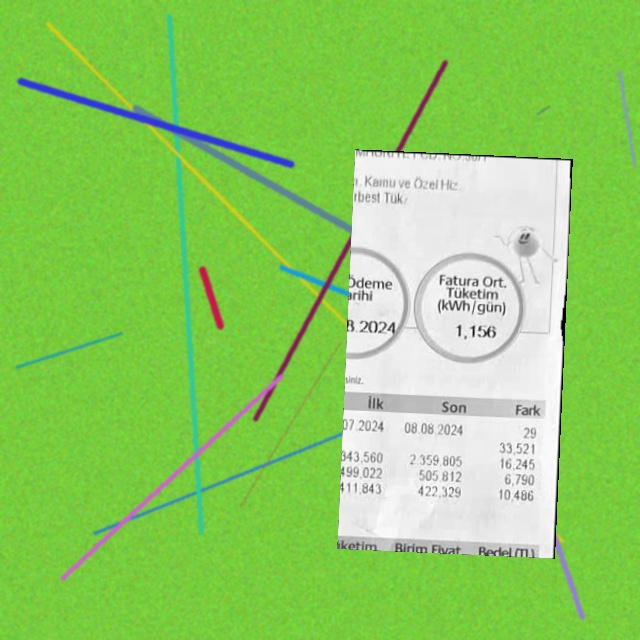electricity-bill: (336, 149, 572, 559)
